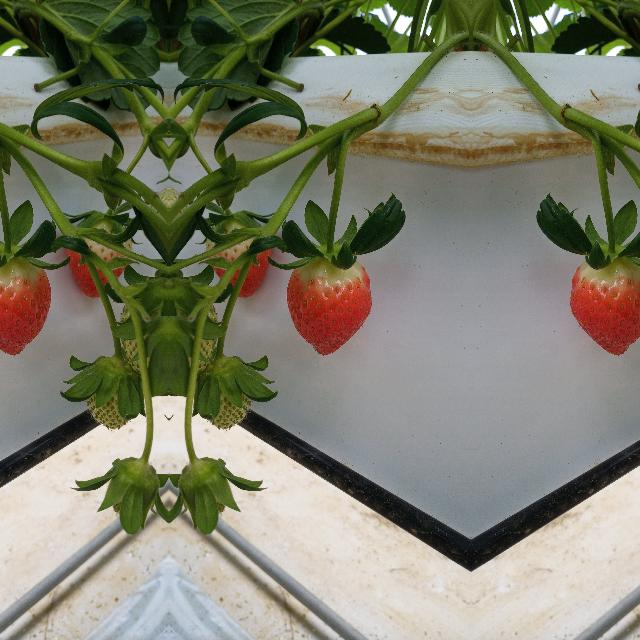Health_100: (284, 256, 372, 356), (569, 256, 640, 355), (0, 256, 51, 355)
Health_25: (196, 355, 264, 439), (72, 355, 140, 439)
